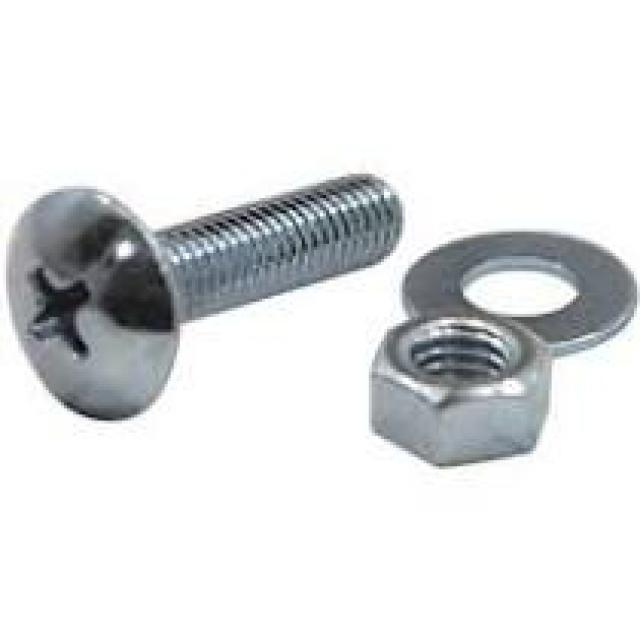Screw: (6, 174, 405, 421)
